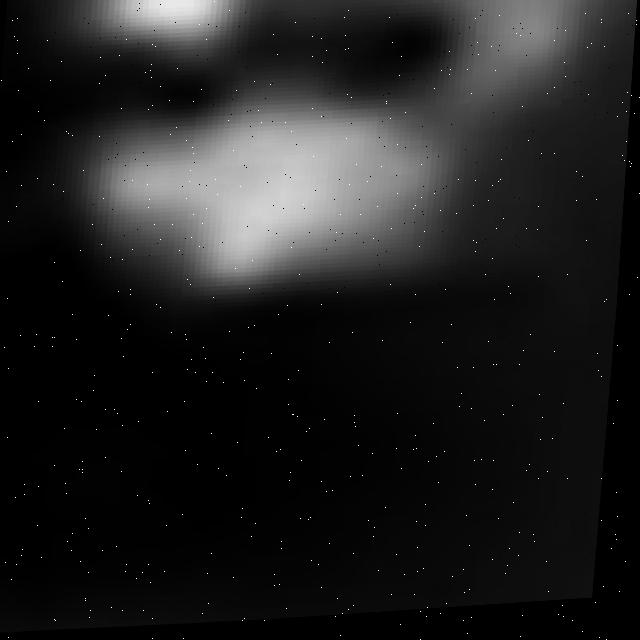person: (37, 65, 540, 296), (42, 1, 589, 63)
